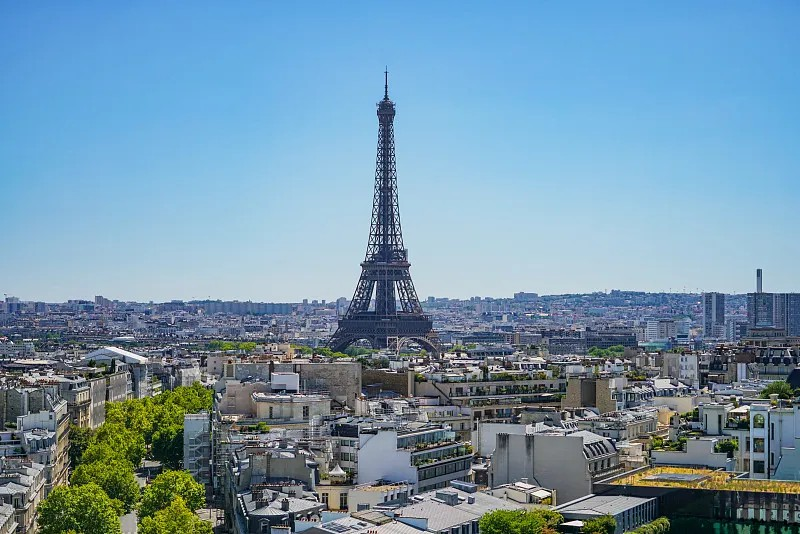Eiffel: (325, 65, 448, 358)
